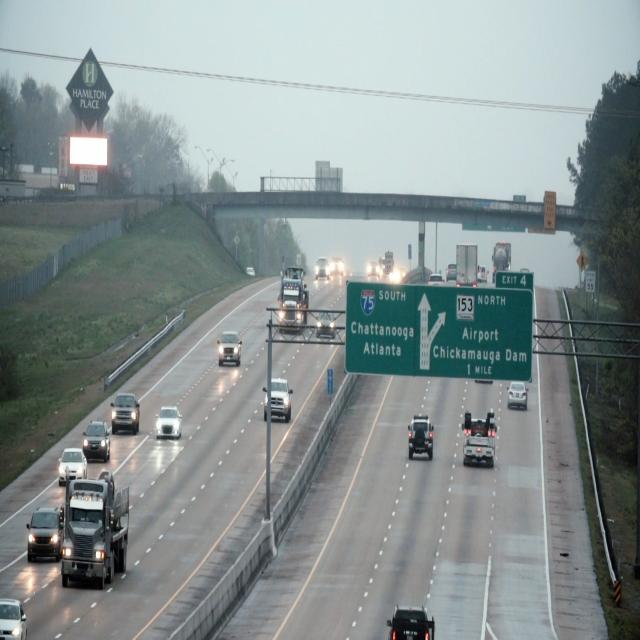Car: (63, 472, 134, 592), (274, 263, 310, 336), (458, 415, 498, 469), (29, 509, 62, 566), (260, 375, 294, 422), (81, 411, 112, 462), (57, 443, 91, 486), (110, 394, 144, 435), (156, 402, 184, 444), (410, 417, 436, 460), (216, 330, 243, 368), (313, 309, 340, 343), (508, 381, 529, 410)
